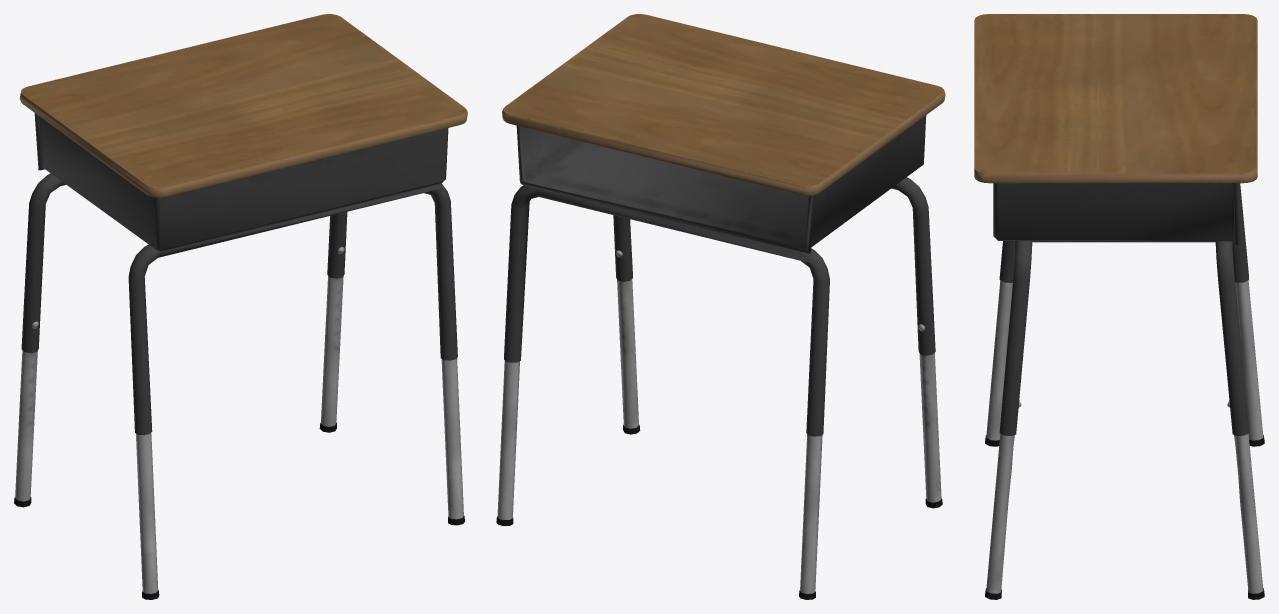
Rendered from SchoolDesk_01.glb.
3 views of the same model, side by side, from view 1: azimuth 30°, elevation 25°; view 2: azimuth 150°, elevation 25°; view 3: azimuth 270°, elevation 25° (orthographic). The views are drawn at different scales.
Parts seen in each view (by area): view 1: SchoolDesk_01; view 2: SchoolDesk_01; view 3: SchoolDesk_01.
Part boxes in pixels (x1,y1,x2,y2): SchoolDesk_01: [14, 14, 467, 599]; SchoolDesk_01: [496, 14, 945, 599]; SchoolDesk_01: [974, 14, 1264, 599].
Size of the model in its own units: 0.7101 by 0.8826 by 0.5438.
1 material, 1 textured.
